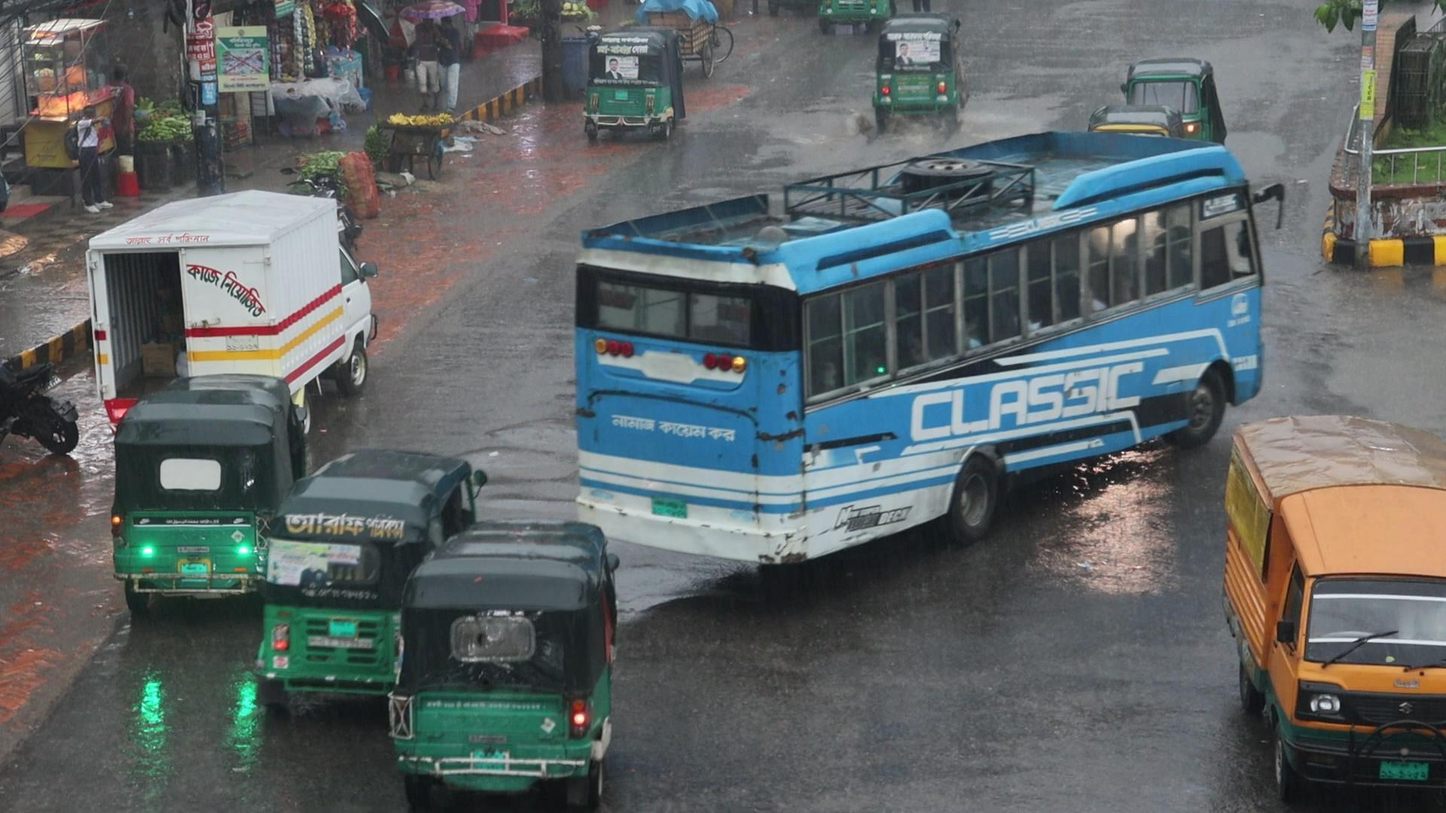Bus: (560, 122, 1259, 573)
Truck: (1205, 402, 1446, 772)
